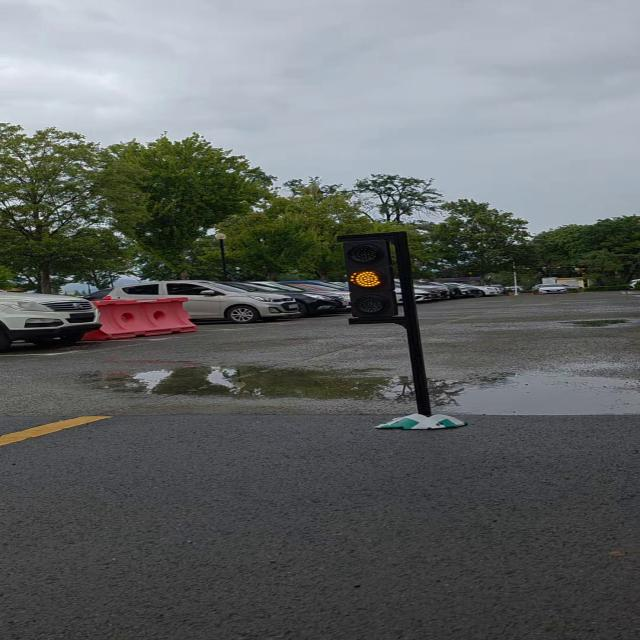yellow: (329, 232, 410, 328)
